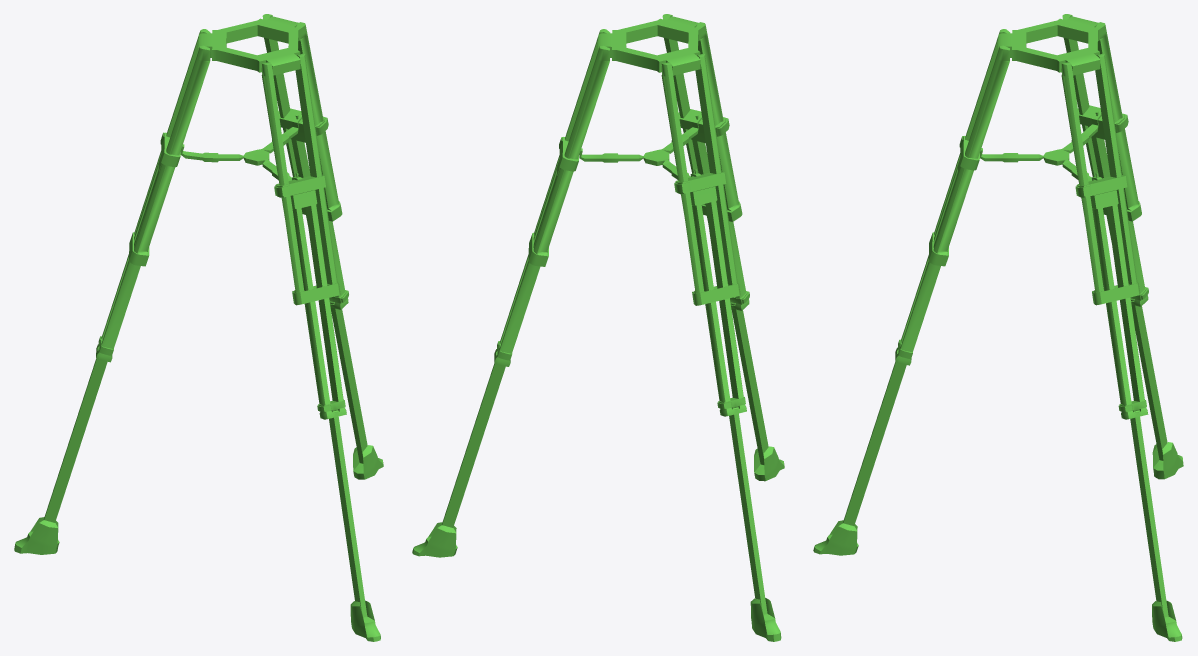
The model's file is Modern High End Tripod Legs.fbx.
3 renders of one model, left to right at view 1: azimuth 30°, elevation 25°; view 2: azimuth 150°, elevation 25°; view 3: azimuth 270°, elevation 25°, orthographic.
Parts seen in each view (by area): view 1: Cylinder.002; view 2: Cylinder.002; view 3: Cylinder.002.
Part boxes in pixels (x1,y1,x2,y2): Cylinder.002: (14, 14, 383, 641); Cylinder.002: (412, 14, 784, 641); Cylinder.002: (813, 14, 1183, 641).
Bounding box in the file's own units: 110 × 148 × 96.36.
